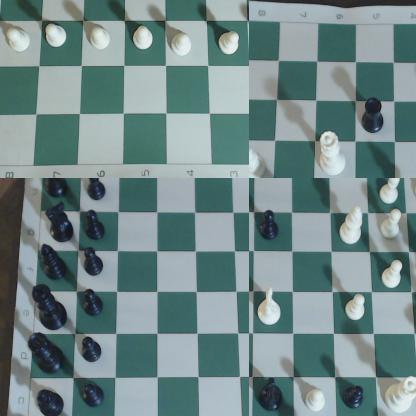black-bishop: (40, 244, 70, 281), (261, 377, 286, 414), (36, 388, 66, 416)
black-king: (33, 285, 70, 332)
black-knight: (44, 201, 76, 243)
black-pawn: (259, 208, 284, 243), (341, 383, 368, 411), (81, 288, 106, 318), (86, 210, 107, 242), (82, 384, 108, 409), (84, 248, 105, 277), (82, 337, 103, 365), (88, 179, 108, 202)
black-queen: (29, 332, 69, 376)
black-rook: (362, 97, 390, 138), (41, 179, 73, 199)
white-bishop: (339, 207, 368, 245), (250, 142, 269, 178)
white-knight: (258, 289, 284, 328)
white-pawn: (2, 22, 36, 56), (85, 26, 118, 60), (129, 25, 161, 59), (46, 18, 75, 54), (212, 31, 245, 61), (169, 29, 200, 60), (382, 258, 404, 293), (344, 293, 368, 325), (382, 210, 404, 242), (346, 295, 368, 323), (305, 391, 329, 415)
white-queen: (315, 131, 350, 178), (386, 374, 416, 413), (379, 179, 402, 209)
